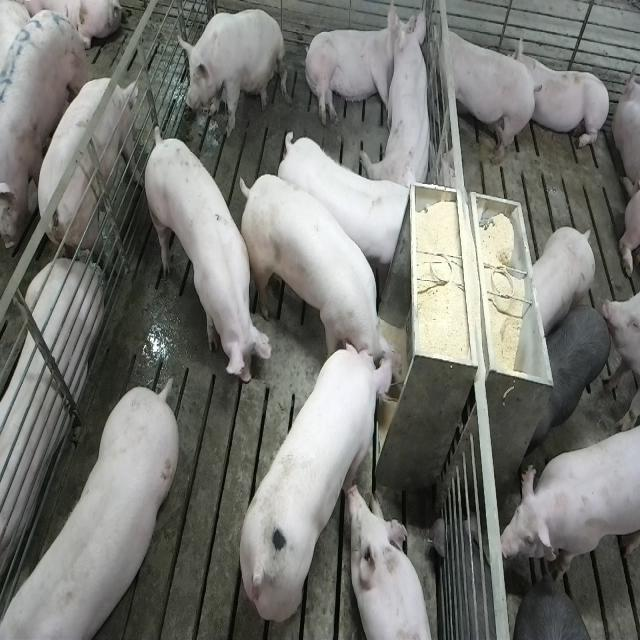Feeding: (237, 340, 400, 624), (233, 165, 399, 384)
Lateral_lying: (0, 260, 101, 607), (301, 15, 395, 128)
Sitting: (177, 8, 286, 138), (370, 9, 435, 198)
Standing: (0, 382, 176, 640), (142, 126, 272, 390), (499, 415, 638, 582), (0, 6, 88, 266), (33, 76, 144, 277), (277, 128, 410, 281), (432, 21, 540, 167), (529, 301, 611, 454), (532, 227, 597, 338), (513, 582, 597, 637)
Sternal_lying: (348, 484, 434, 640), (517, 38, 612, 154)
